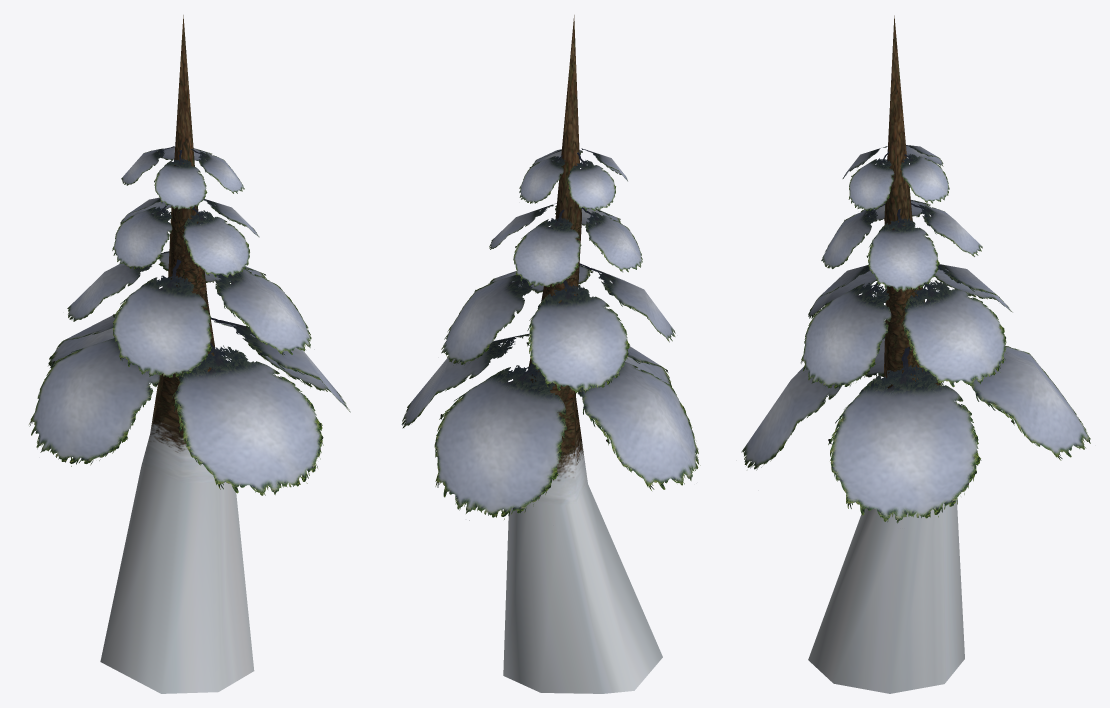
Rendered from Tree.FBX.
The picture shows the model from 3 angles, left to right: view 1: azimuth 30°, elevation 25°; view 2: azimuth 150°, elevation 25°; view 3: azimuth 270°, elevation 25°; orthographic projection.
Visible parts, largest first — view 1: Tree; view 2: Tree; view 3: Tree.
Part boxes in pixels (x1=…): Tree: x1=29, y1=15, x2=350, y2=693; Tree: x1=401, y1=15, x2=700, y2=693; Tree: x1=741, y1=15, x2=1090, y2=693.
Bounding box in the file's own units: 80.14 × 83.24 × 166.
Materials: 2 (2 with a texture image).
